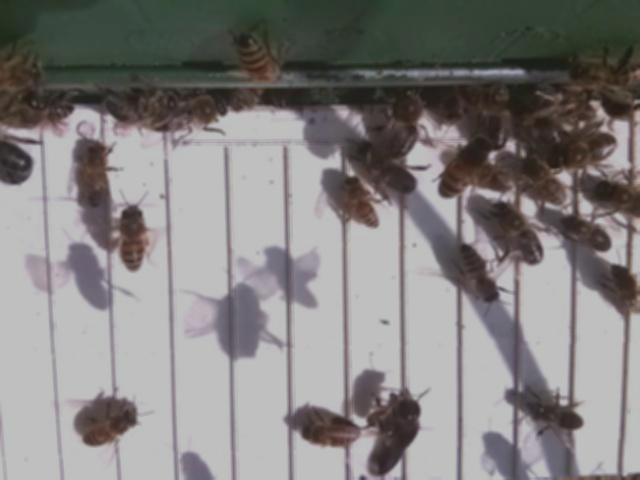Drone: (365, 396, 423, 480), (490, 202, 546, 272), (354, 146, 422, 201), (545, 128, 623, 173)
Worker: (438, 133, 496, 202), (458, 240, 503, 308), (82, 407, 140, 450), (340, 177, 382, 234), (116, 202, 148, 274), (560, 214, 613, 255), (296, 420, 365, 451), (525, 400, 586, 434), (82, 140, 110, 213)
